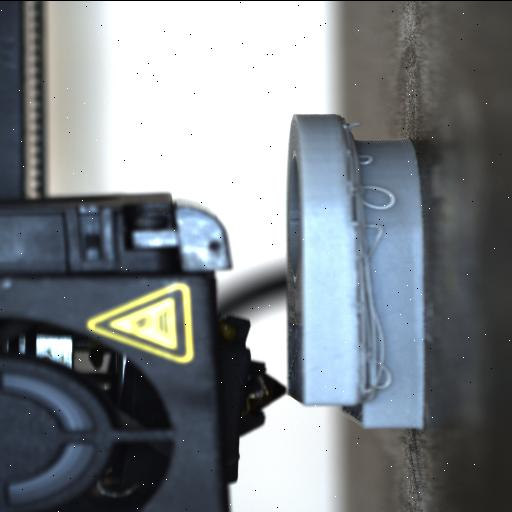layer_shift: (336, 115, 366, 426)
